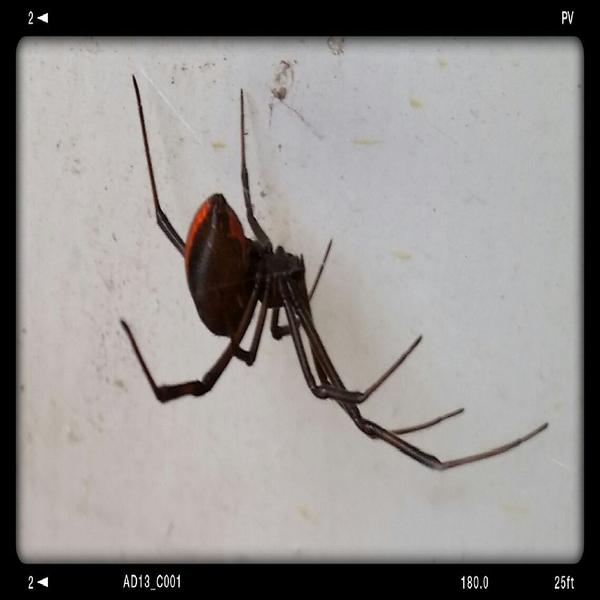Redback_Spider: (118, 75, 547, 471)
